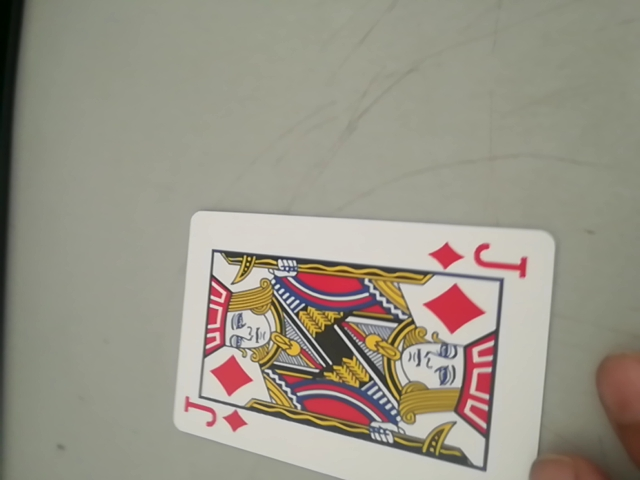fk j: (430, 236, 537, 279), (182, 397, 252, 440)
